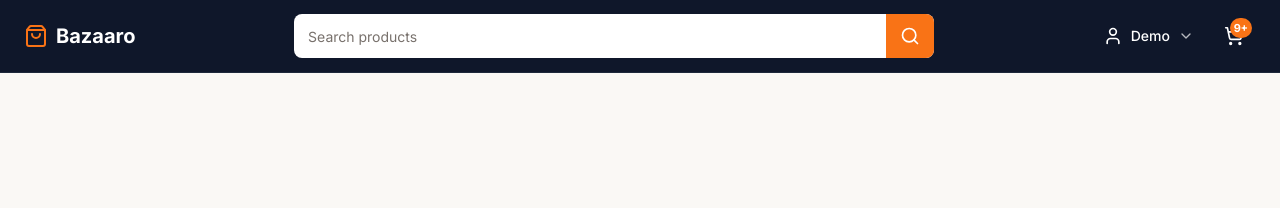
Test case: Layout components › Header renders customer first name + live cart badge and caps badge at 9+
The width and height of the screenshot is (1280, 208).
Expected: the text "Demo" is shown, left=1131, top=26, right=1170, bottom=46
Expected: the text "9+" is shown, left=1230, top=18, right=1252, bottom=38
Click the button with aria-label "Account menu": (1148,36) left=1093, top=14, right=1204, bottom=58
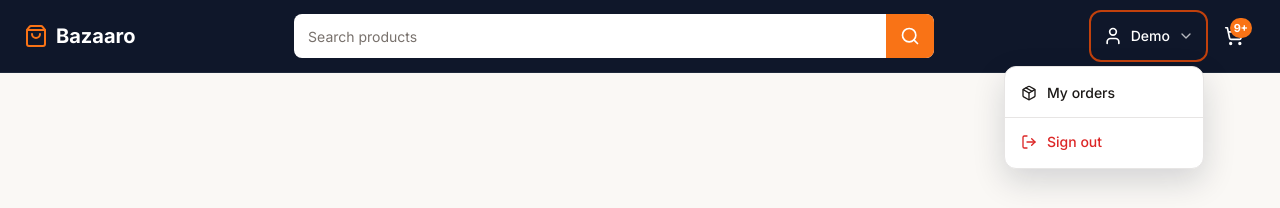
Expected: the menu item "My orders" is shown, left=1005, top=73, right=1203, bottom=113
Expected: the menu item "Sign out" is shown, left=1005, top=122, right=1203, bottom=162
